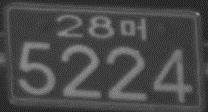2: (107, 45, 148, 102), (61, 42, 101, 99), (56, 13, 85, 37)
4: (153, 48, 193, 103)
5: (17, 41, 56, 96)
8: (88, 15, 115, 39)
머: (119, 16, 147, 40)
